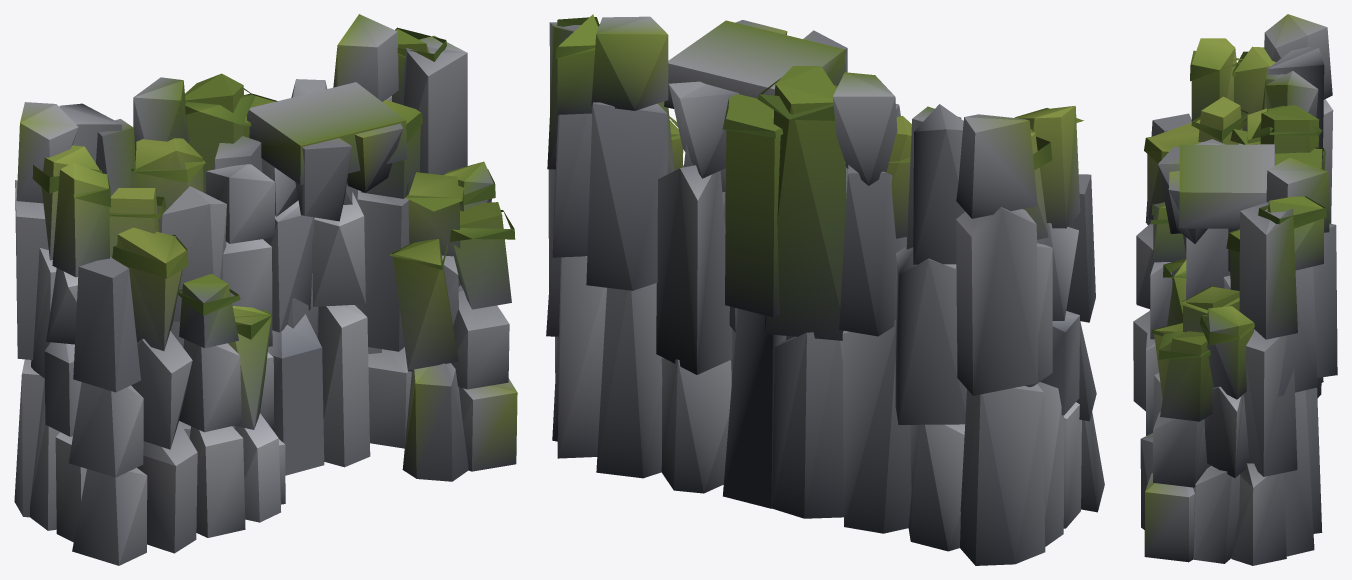
The model's file is wf_basalt_cliff_low-lod1.glb.
The picture shows the model from 3 angles, left to right: view 1: azimuth 30°, elevation 25°; view 2: azimuth 150°, elevation 25°; view 3: azimuth 270°, elevation 25°; orthographic projection. The views are drawn at different scales.
Visible parts, largest first — view 1: wf_basalt_cliff_low; view 2: wf_basalt_cliff_low; view 3: wf_basalt_cliff_low.
Boxes of the visible parts, <box> form: wf_basalt_cliff_low: <box>14,14,517,565</box>; wf_basalt_cliff_low: <box>546,14,1104,565</box>; wf_basalt_cliff_low: <box>1133,14,1337,565</box>.
Size of the model in its own units: 25.11 by 20.96 by 10.79.
